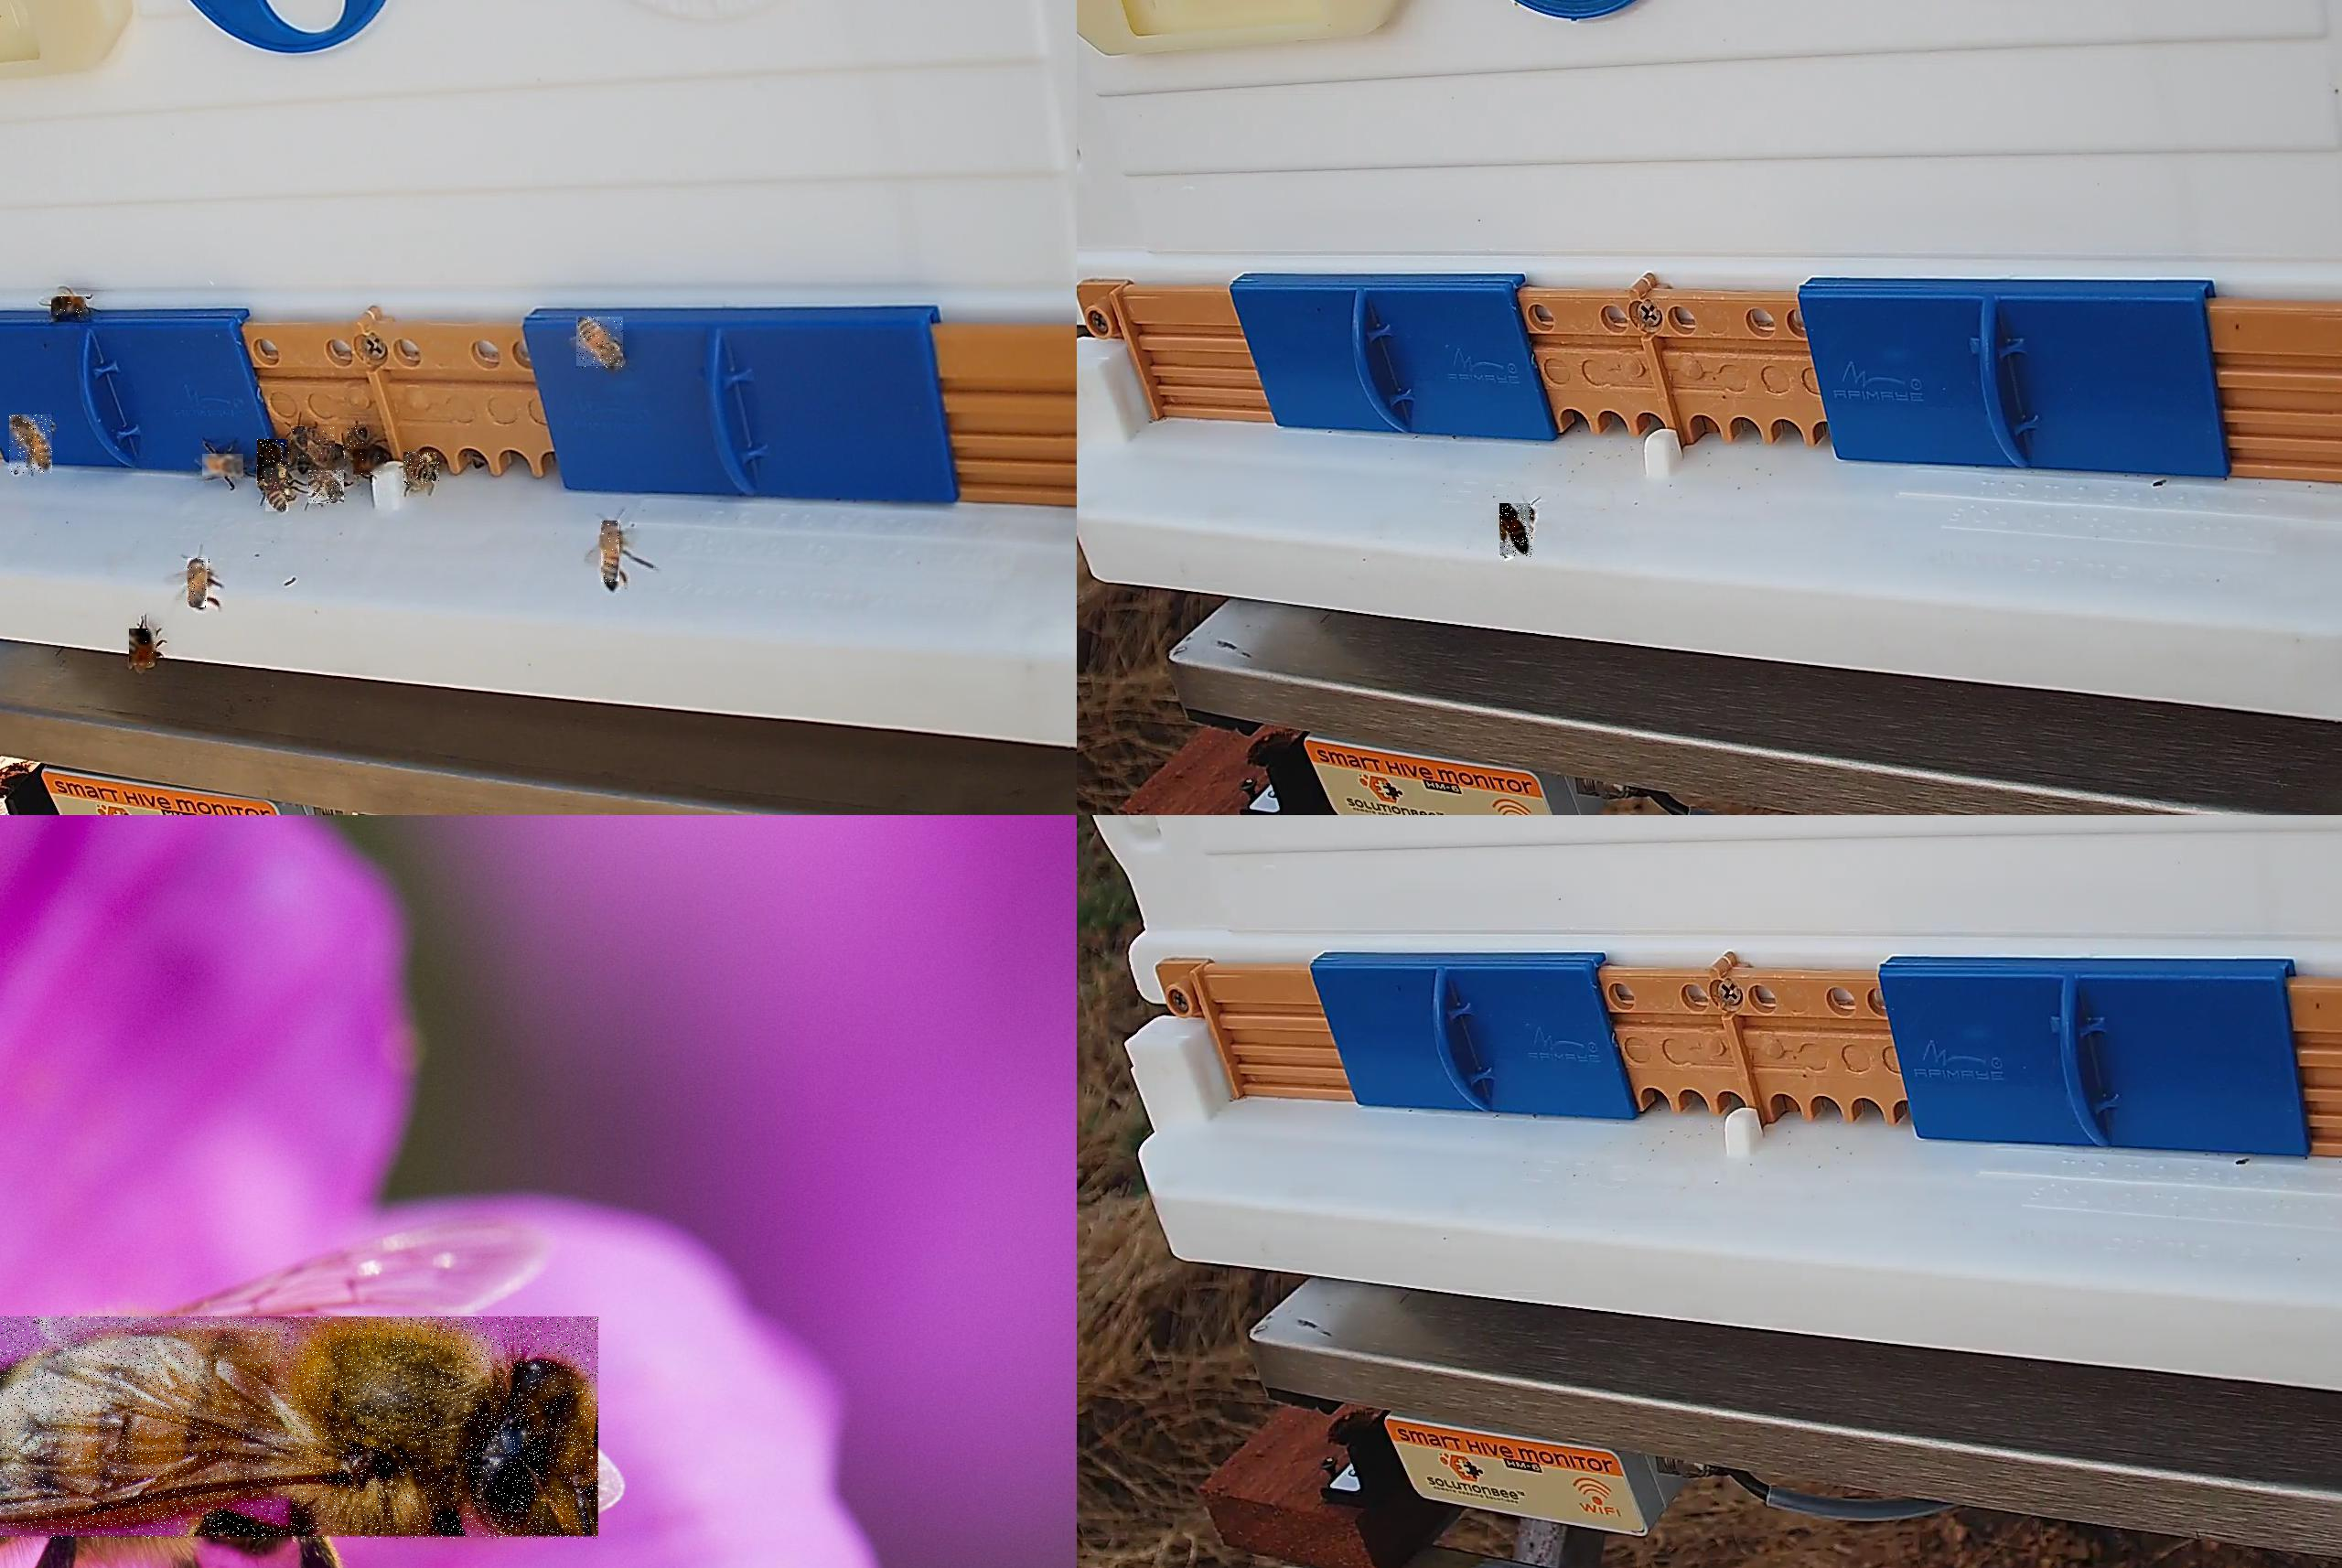bee: (0, 1316, 600, 1540), (9, 415, 53, 474), (576, 317, 625, 369), (291, 427, 336, 462), (600, 522, 620, 586), (308, 471, 345, 504), (189, 558, 212, 609), (203, 455, 245, 479), (130, 630, 158, 667), (354, 450, 387, 476), (53, 298, 89, 320), (343, 427, 368, 458)
pollenbee: (1500, 504, 1533, 558), (257, 439, 291, 490), (404, 453, 441, 486), (266, 469, 289, 513)
